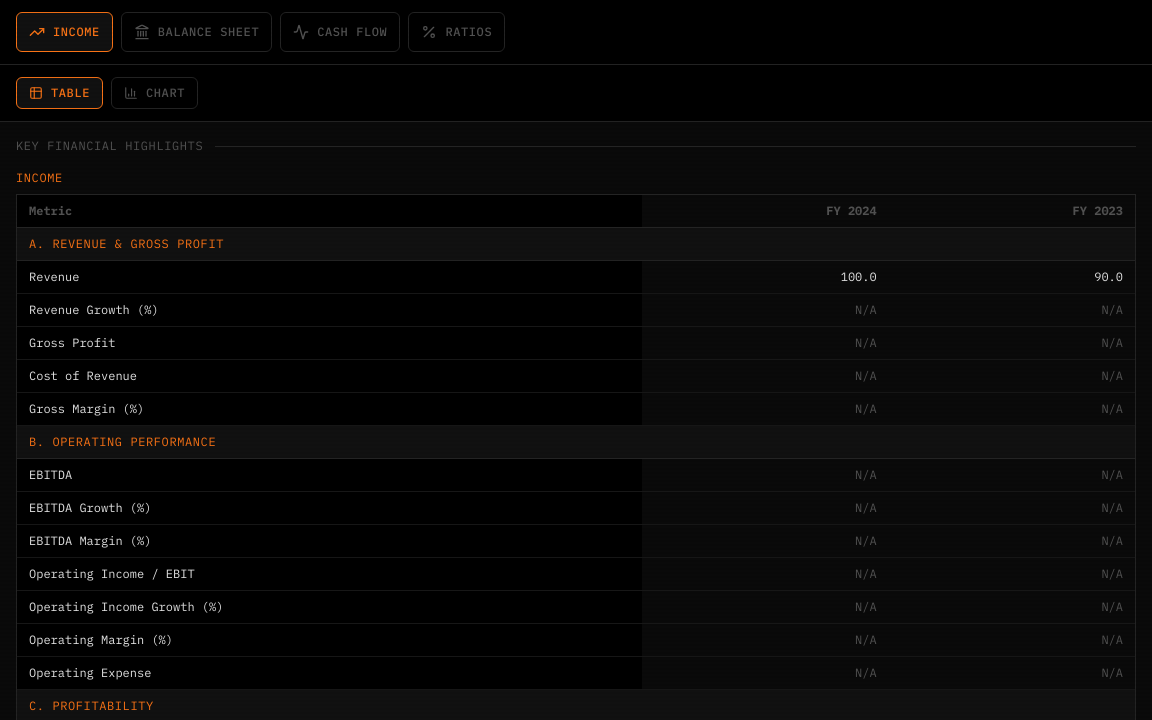
Scenario: FundamentalTab › renders income charts in chart mode
The image size is (1152, 720).
Click the button "Chart" at x=154, y=93, box left=111, top=77, right=198, bottom=109
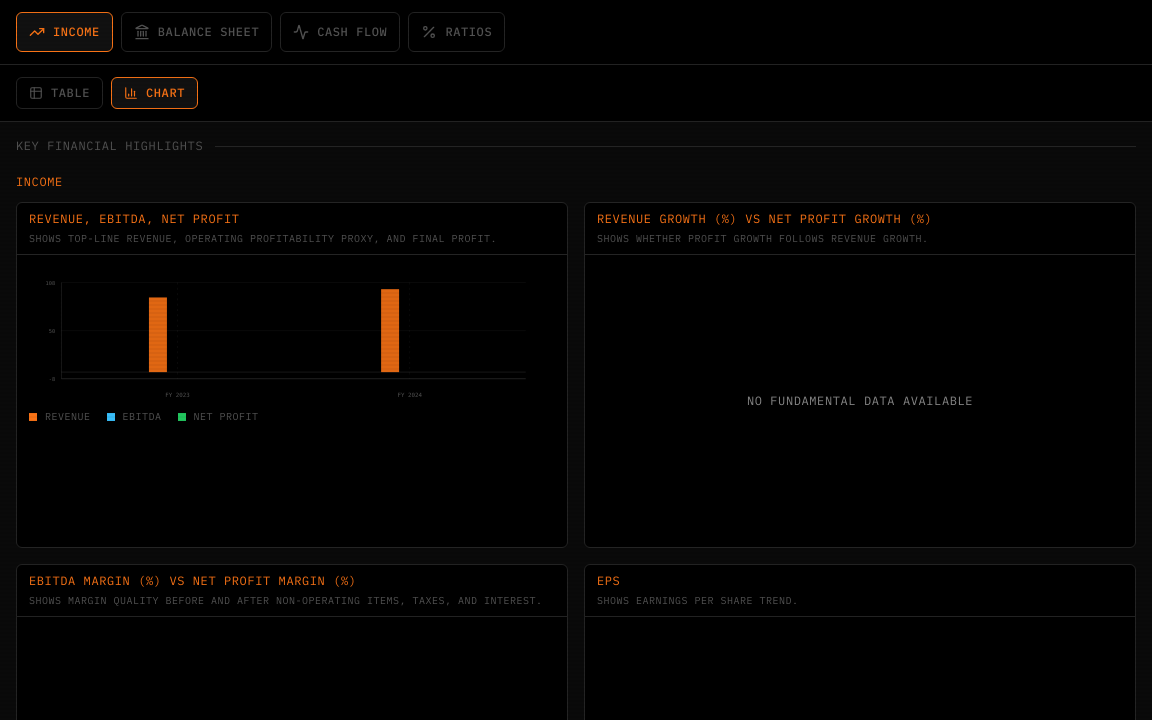
Result: the text "Revenue, EBITDA, Net Profit" is shown at left=29, top=211, right=240, bottom=226
